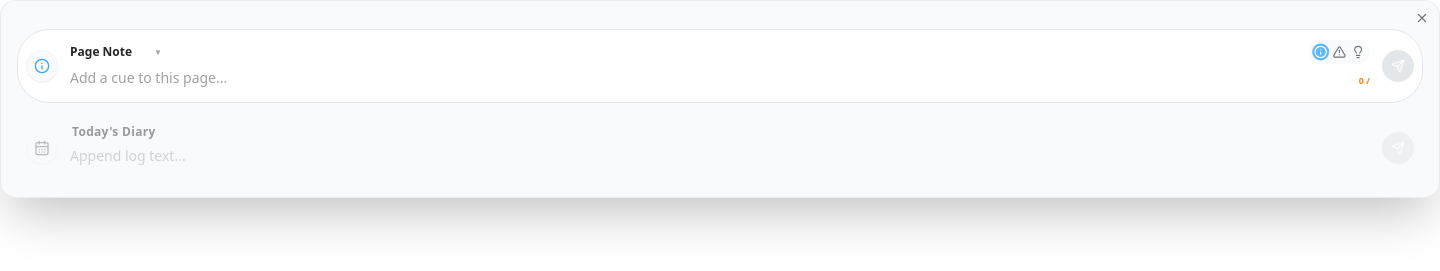
NoteInput Component - Markdown Assist Integration › Note入力欄およびDiary入力欄で、リスト行のEnterによるオートバレットと括弧ペア補完が機能すること
The image size is (1440, 271).
Step 1. Type "- item 1" into the text box with placeholder "Add a cue to this page..." → (720,78), box [70,68,1370,88]
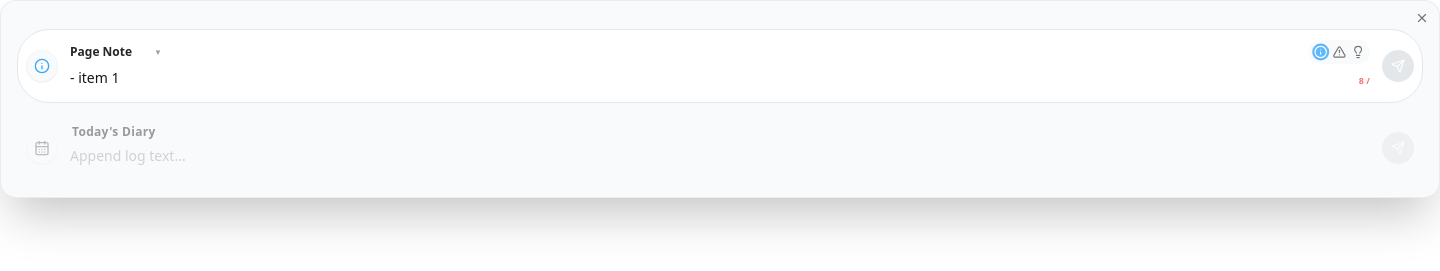
Step 2. Press Enter in the text box with placeholder "Add a cue to this page...", box [70,68,1370,88]
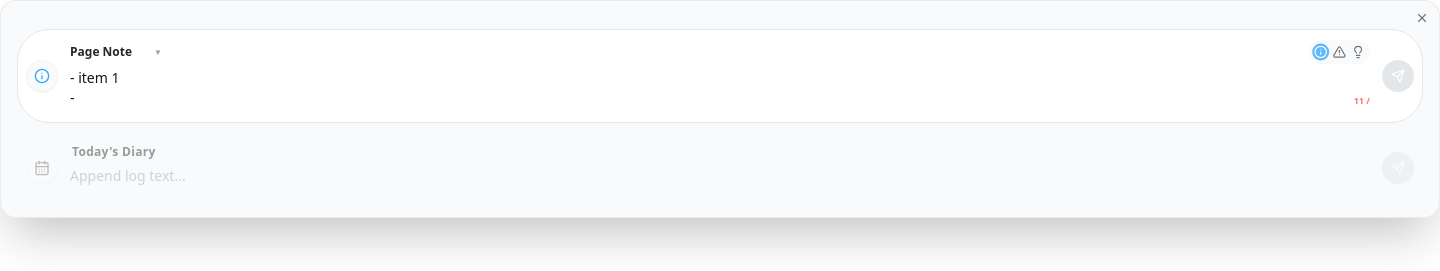
Step 3. Clear the text box with placeholder "Append log text..." → (720,176), box [70,166,1370,186]
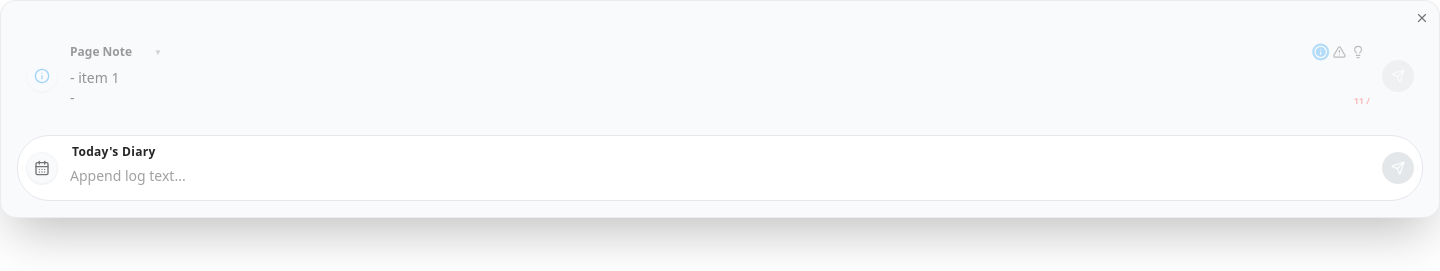
Step 4. Press [ in the text box with placeholder "Append log text...", box [70,166,1370,186]
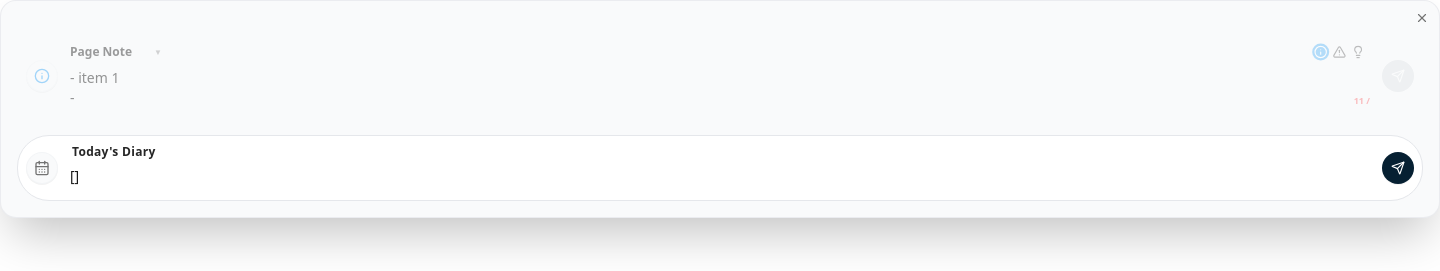
Result: the 2nd text box with placeholder "Append log text..." holds "[]" at [70,166,1370,186]
